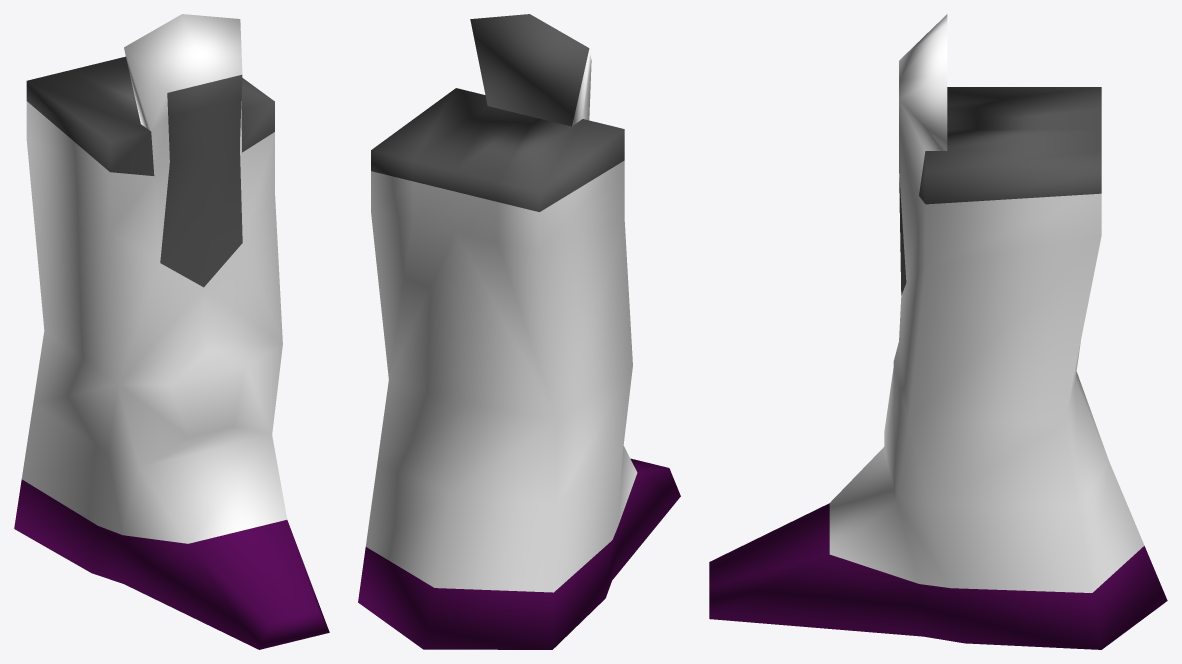
File: LeftBoot.fbx
The picture shows the model from 3 angles, left to right: view 1: azimuth 30°, elevation 25°; view 2: azimuth 150°, elevation 25°; view 3: azimuth 270°, elevation 25°; orthographic projection. The views are drawn at different scales.
Parts seen in each view (by area): view 1: Boot; view 2: Boot; view 3: Boot.
Part boxes in pixels (x1,y1,x2,y2): Boot: [14, 14, 329, 649]; Boot: [358, 14, 680, 649]; Boot: [709, 14, 1167, 649].
Bounding box in the file's own units: 0.5807 × 1.59 × 1.14.
